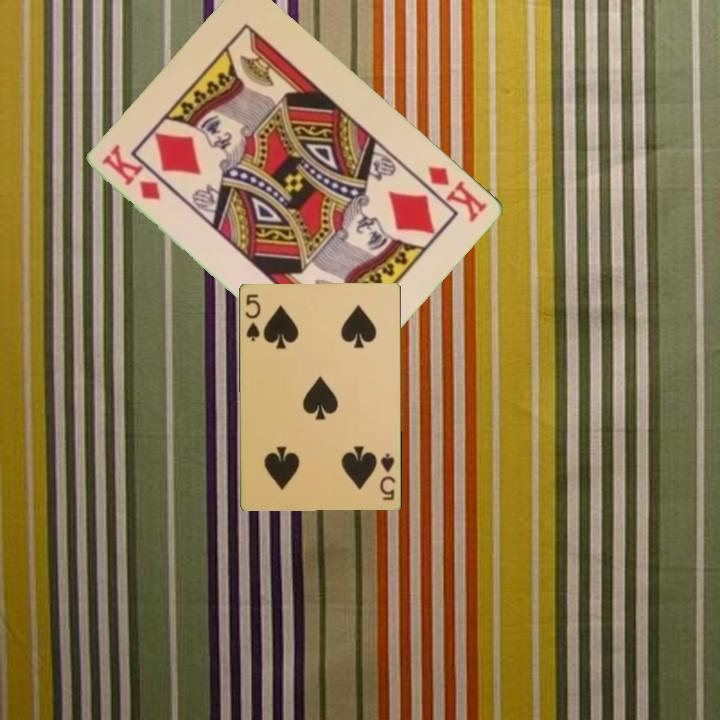5s: (376, 450, 398, 503), (242, 290, 263, 344)
Kd: (424, 162, 491, 225), (99, 142, 165, 204)
